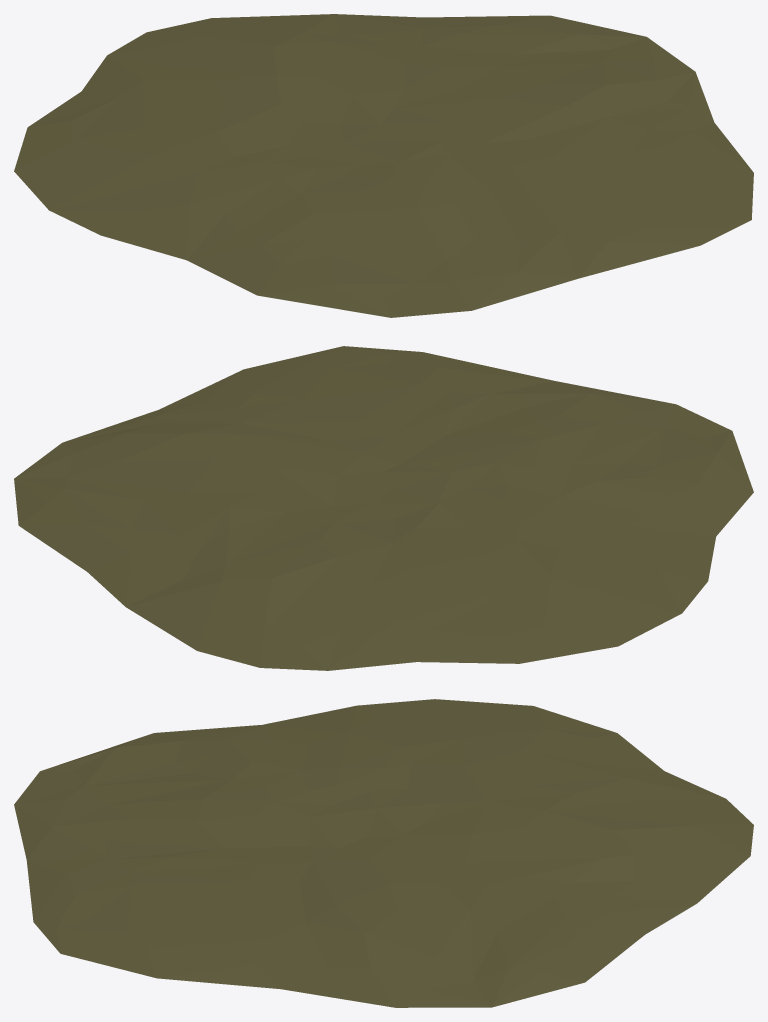
File: SM_Env_Ground_Grass_01.gltf
The picture shows the model from 3 angles, top to bottom: view 1: azimuth 30°, elevation 25°; view 2: azimuth 150°, elevation 25°; view 3: azimuth 270°, elevation 25°; orthographic projection. The views are drawn at different scales.
Visible parts, largest first — view 1: SM_Env_Ground_Grass_01; view 2: SM_Env_Ground_Grass_01; view 3: SM_Env_Ground_Grass_01.
Part boxes in pixels (x1,y1,x2,y2): SM_Env_Ground_Grass_01: [14, 14, 753, 317]; SM_Env_Ground_Grass_01: [14, 346, 753, 670]; SM_Env_Ground_Grass_01: [14, 699, 753, 1007].
Size of the model in its own units: 9.38 by 0.3804 by 9.5.
1 material, 1 textured.
